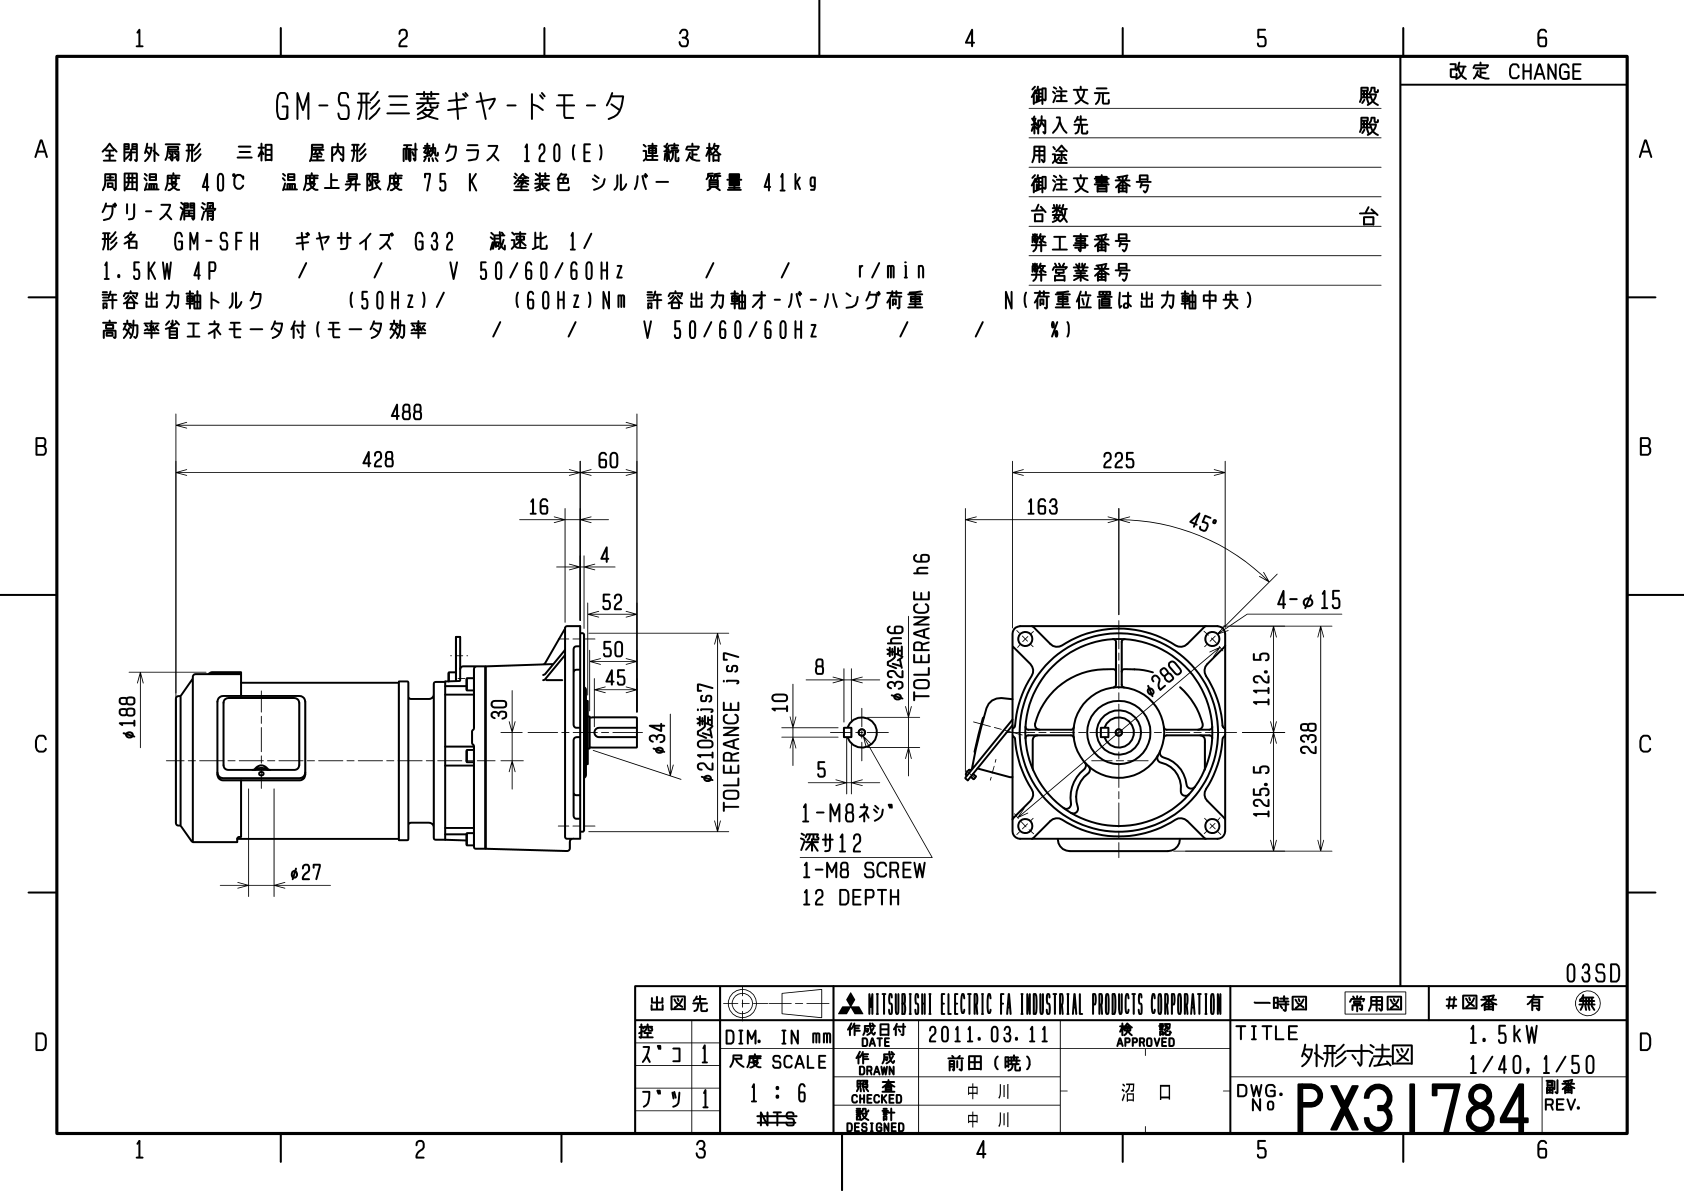GM_S_高効率屋内＿三相_フランジ: (1, 8, 1684, 1191)
